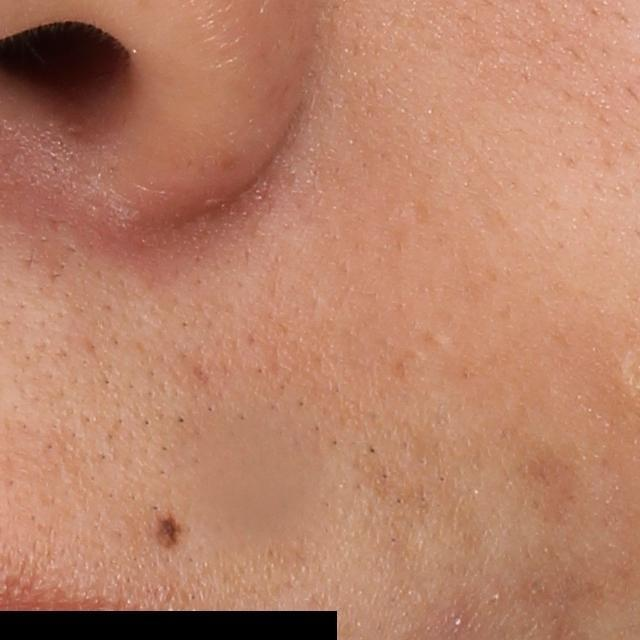nevus: (153, 507, 184, 550)
other: (185, 411, 329, 567)
